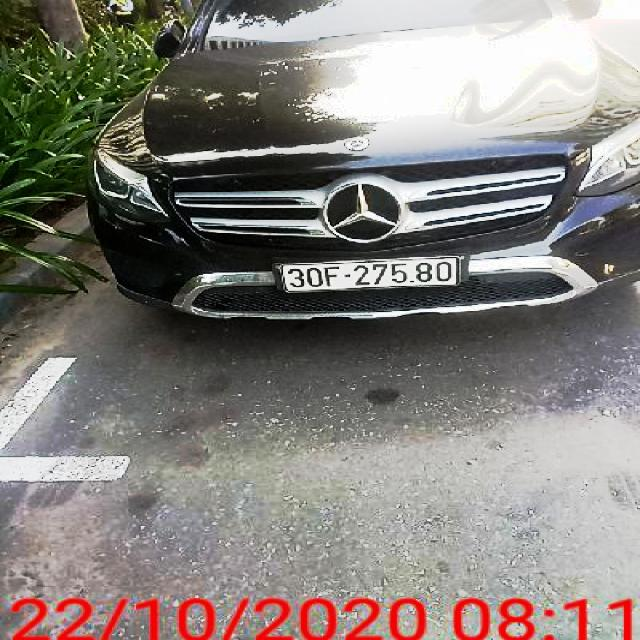license_plate: (283, 260, 463, 295)
